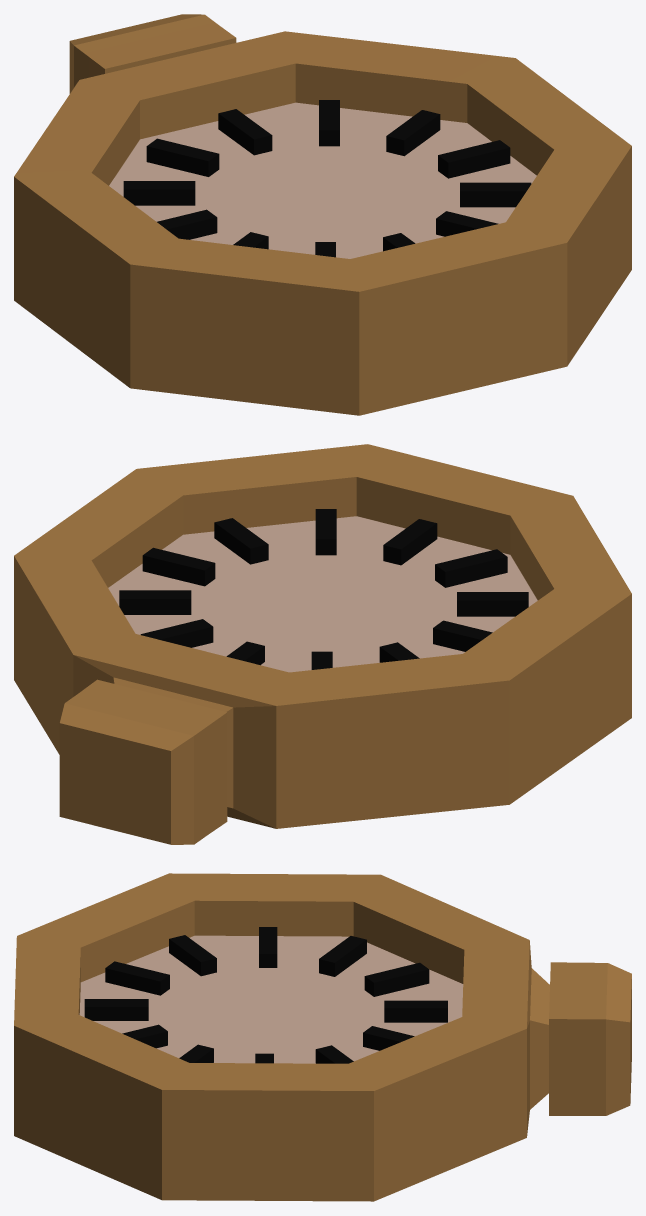
Rendered from Pocket_Watch.fbx.
The picture shows the model from 3 angles, top to bottom: view 1: azimuth 30°, elevation 25°; view 2: azimuth 150°, elevation 25°; view 3: azimuth 270°, elevation 25°; orthographic projection. The views are drawn at different scales.
Visible parts, largest first — view 1: Pocket Watch, Minute Hand.011; view 2: Pocket Watch, Minute Hand.011; view 3: Pocket Watch, Minute Hand.011.
Boxes of the visible parts, <box> form: Pocket Watch: <box>14,14,631,415</box>; Minute Hand.011: <box>123,100,531,257</box>; Pocket Watch: <box>14,444,631,844</box>; Minute Hand.011: <box>119,509,528,669</box>; Pocket Watch: <box>14,873,631,1201</box>; Minute Hand.011: <box>84,927,447,1063</box>.
Size of the model in its own units: 15.03 by 3.55 by 18.04.
